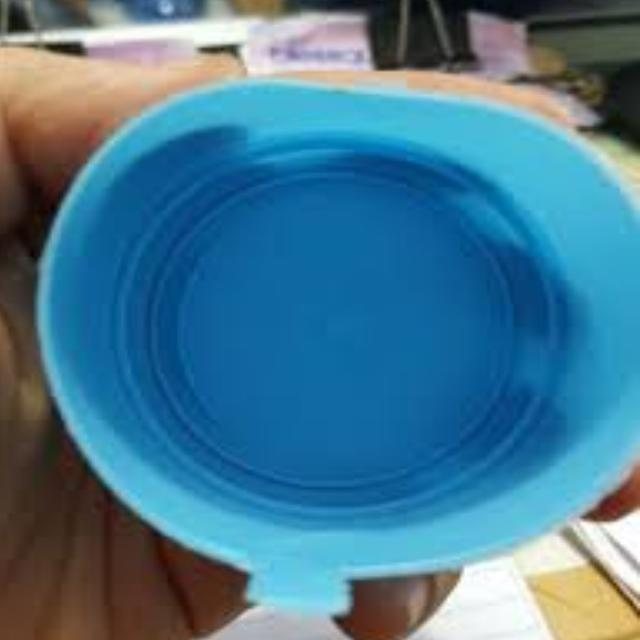TutupGalon: (29, 70, 639, 637)
